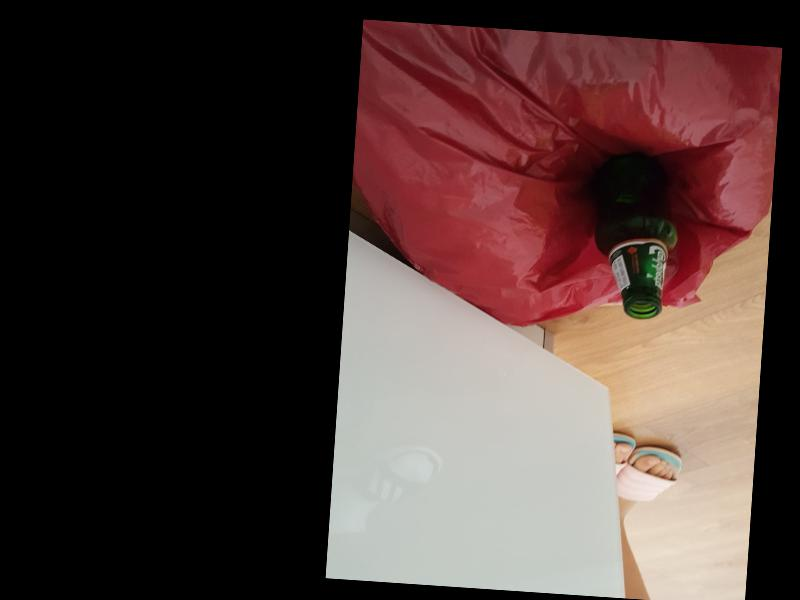Beer: (582, 149, 682, 320)
